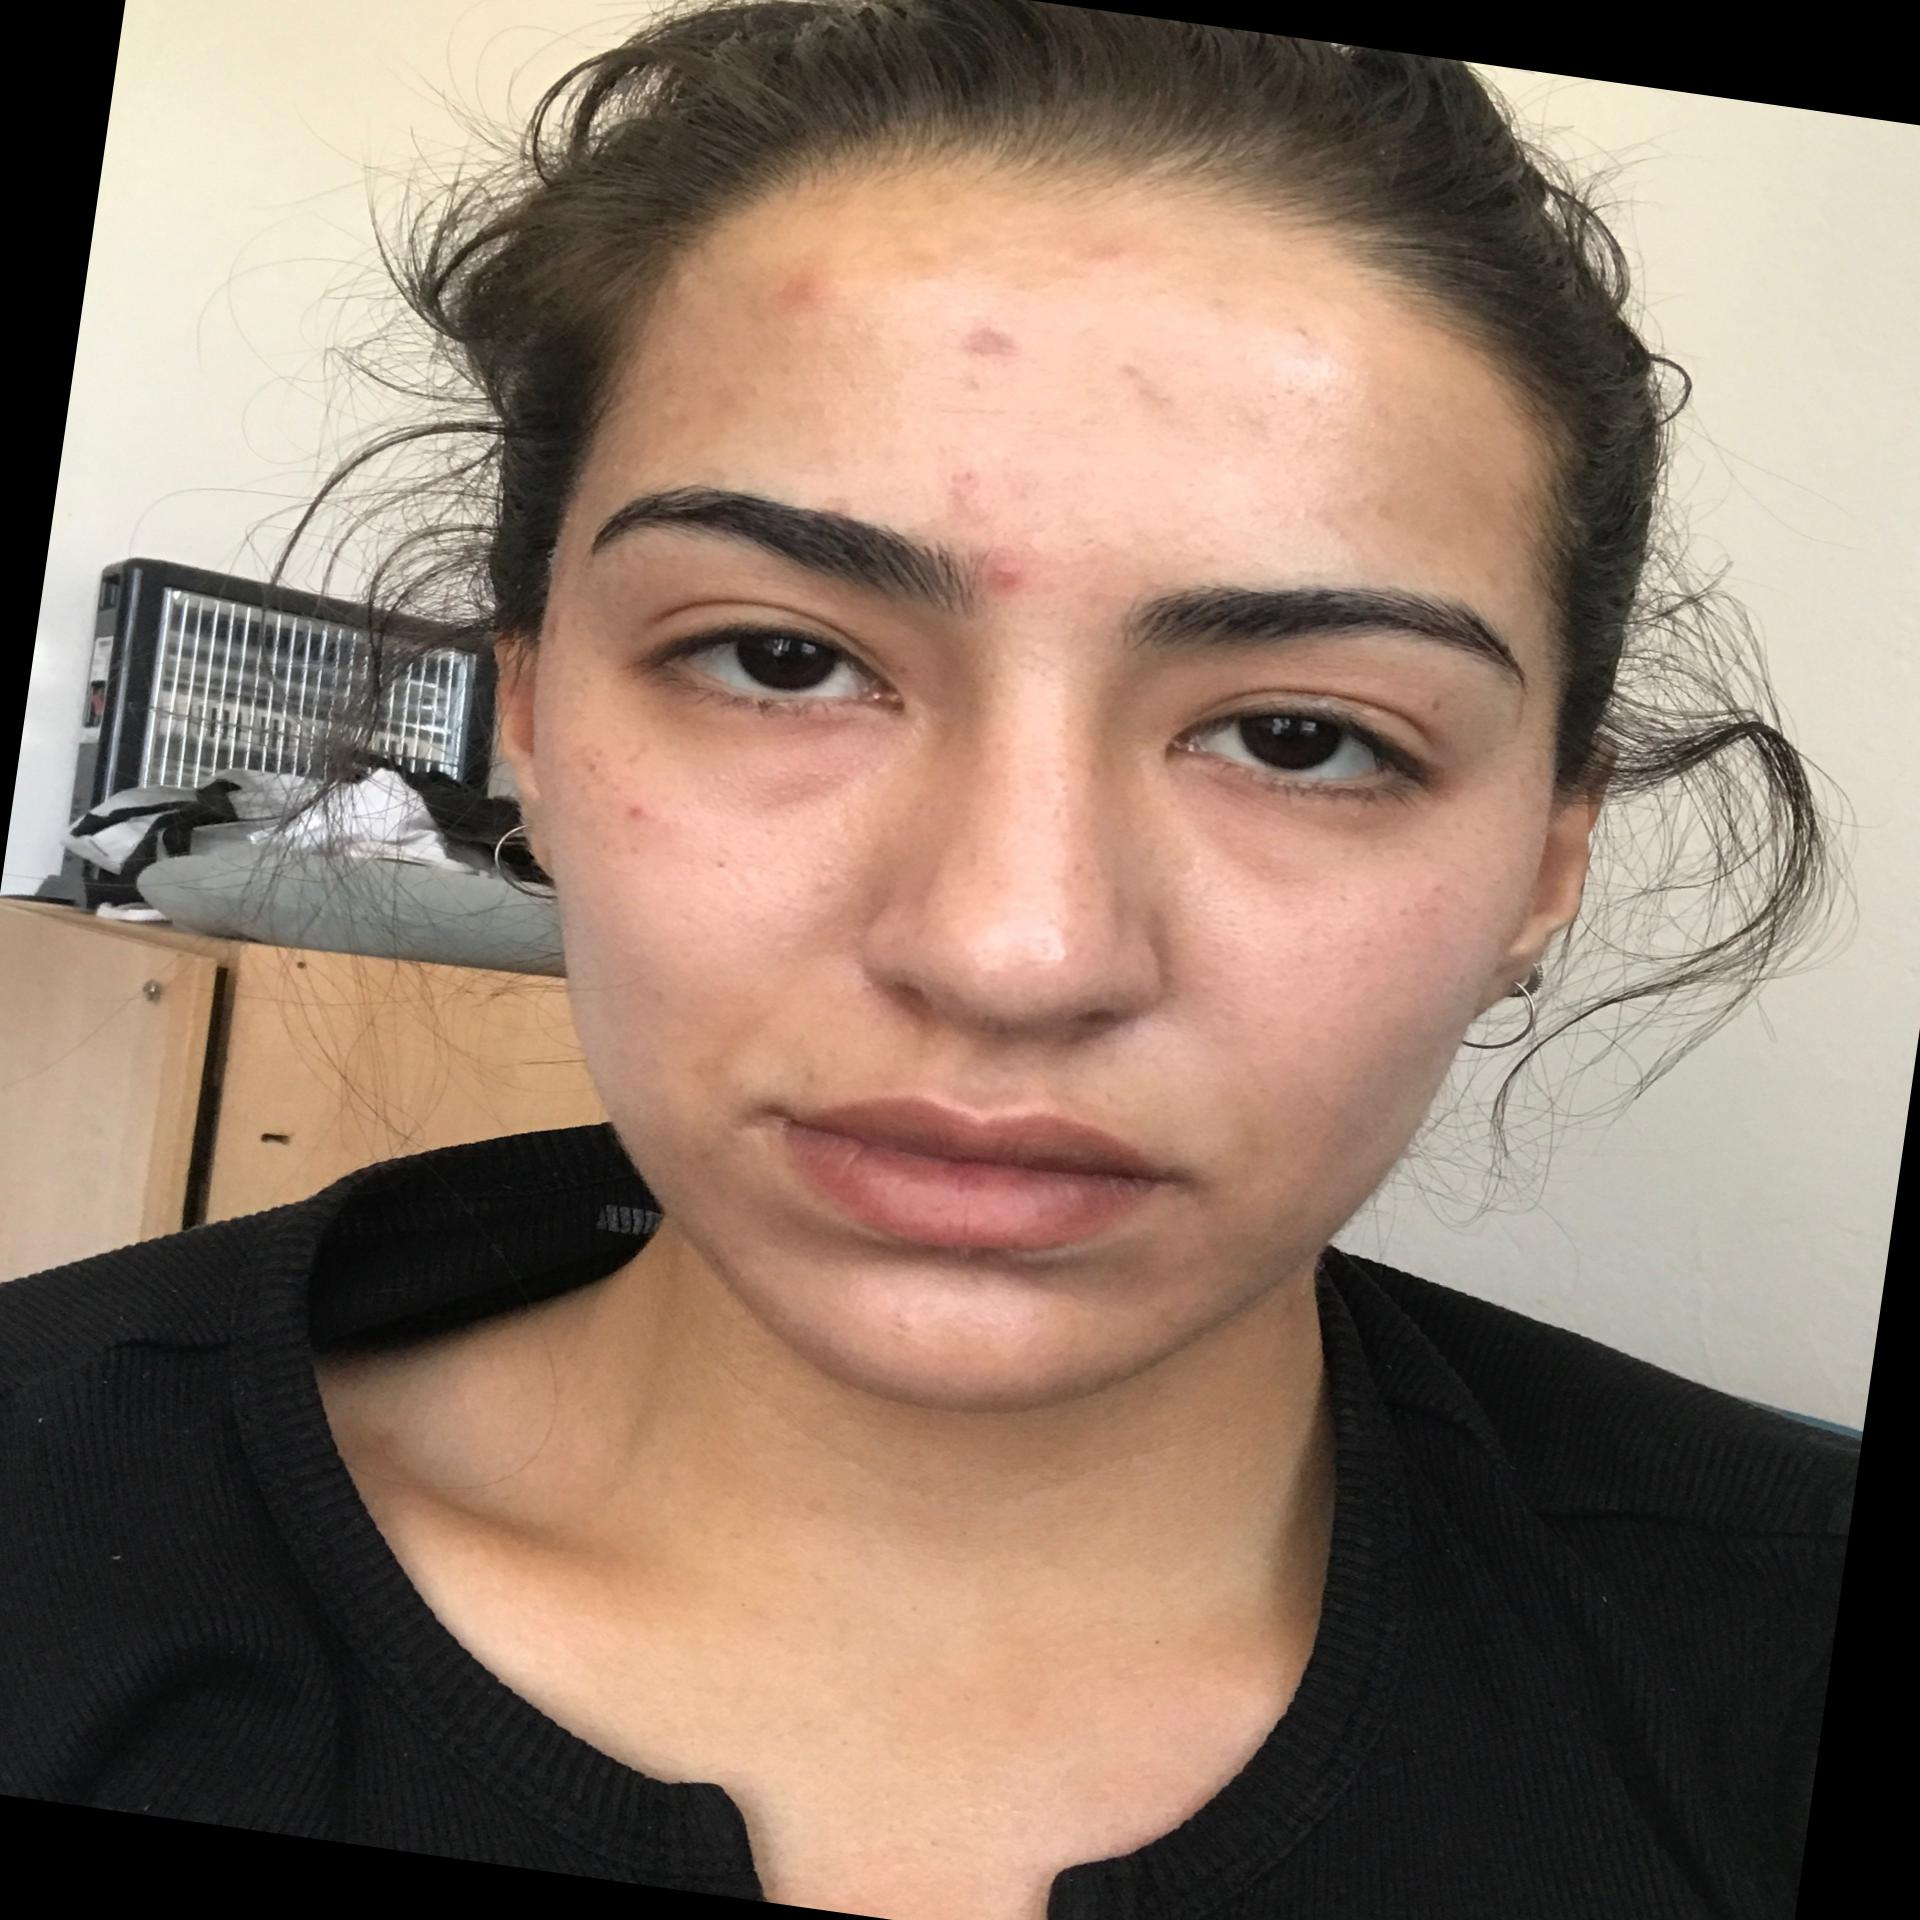Acne: (767, 255, 844, 329), (1106, 357, 1182, 427), (937, 455, 995, 533), (997, 265, 1102, 308), (953, 316, 1020, 360), (974, 547, 1025, 594), (893, 257, 951, 288), (812, 853, 844, 904), (1080, 239, 1132, 269), (568, 740, 610, 777), (883, 1306, 925, 1342), (1224, 401, 1268, 434), (1289, 322, 1326, 352), (621, 798, 659, 826), (1199, 287, 1233, 316), (709, 853, 738, 877)
Blackhead: (1046, 761, 1080, 830)
Dark Circles: (584, 663, 928, 839), (1155, 753, 1449, 923)
Englarged Pores: (1162, 870, 1255, 953), (779, 830, 862, 921)
Wrinkles: (928, 394, 1065, 433)
